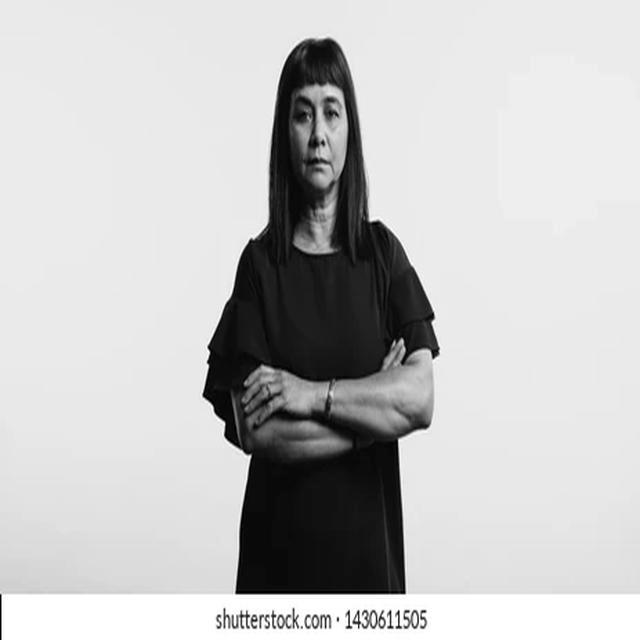Neutral: (287, 78, 347, 189)
